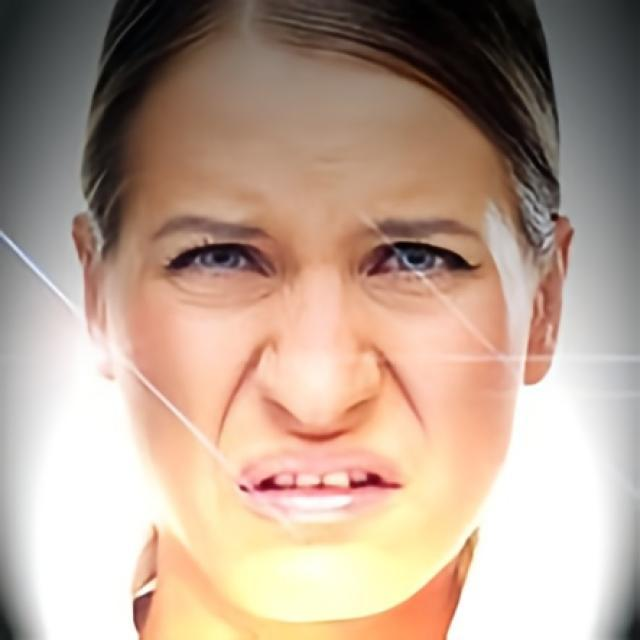disgust: (118, 43, 524, 614)
